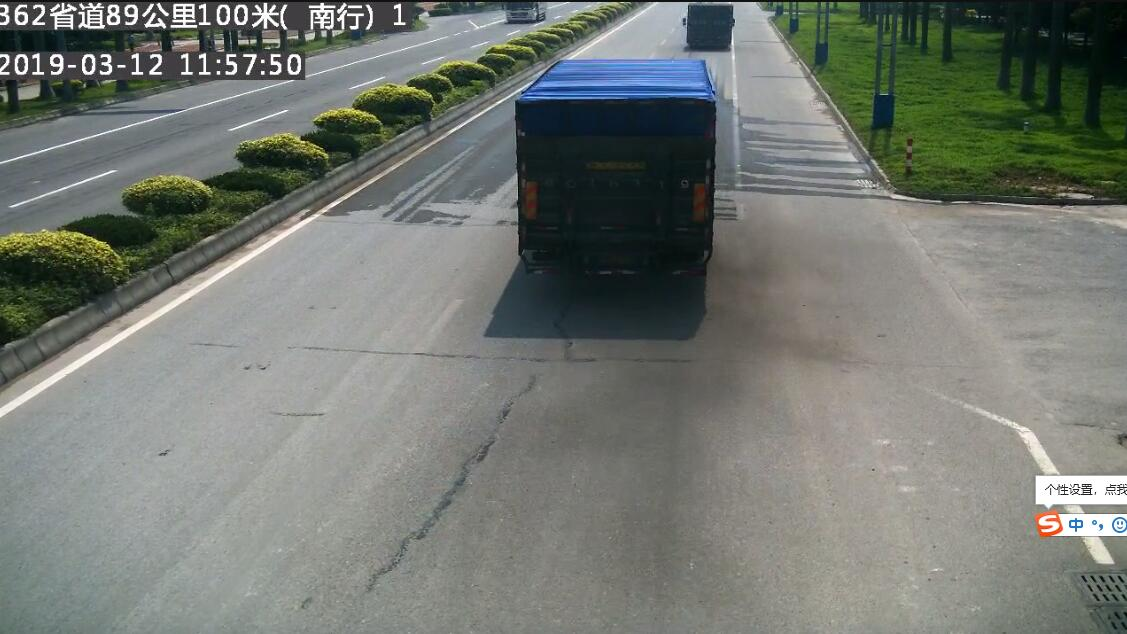yanwu: (701, 232, 808, 345)
